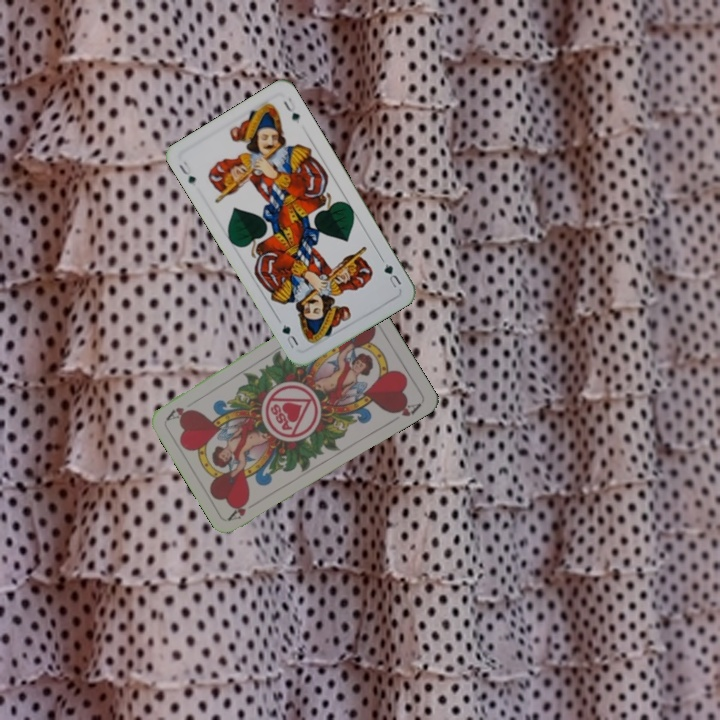GU: (380, 259, 404, 290), (175, 157, 198, 186)
HA: (225, 496, 262, 523)
